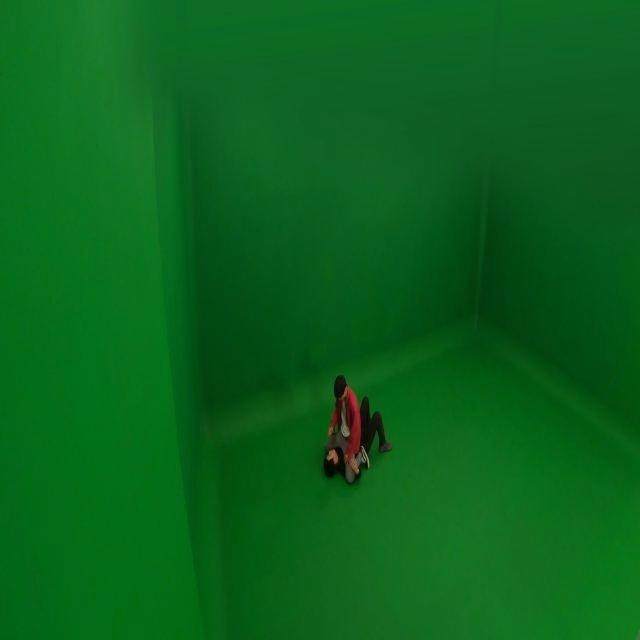fight: (322, 372, 390, 484)
